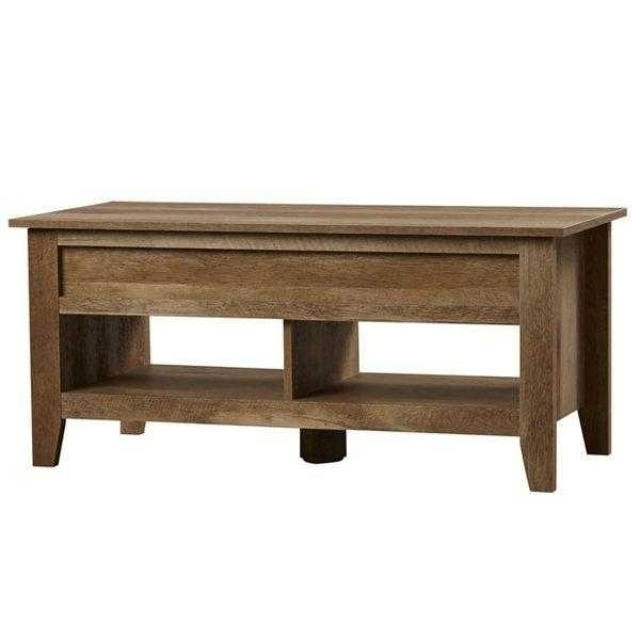obstacle: (10, 202, 625, 491)
